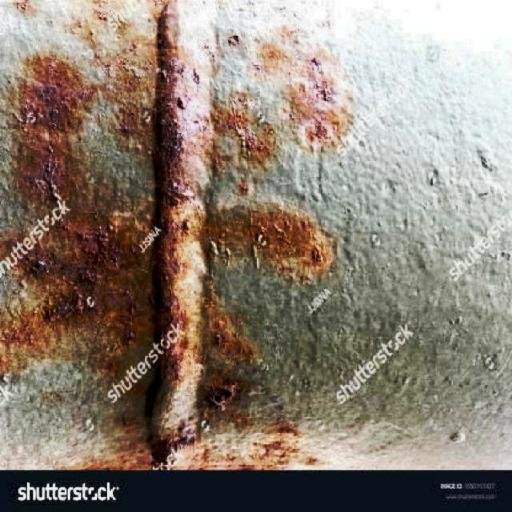corrosion: (13, 43, 166, 390), (213, 24, 360, 182)
